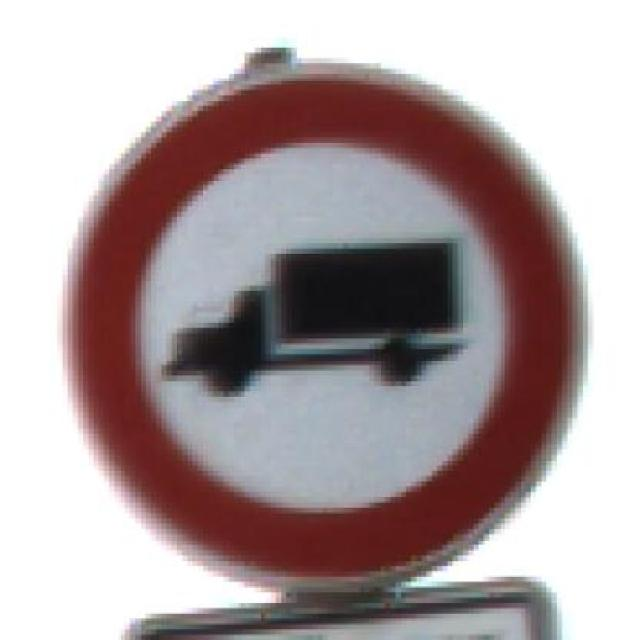Truck traffic is prohibited: (47, 42, 604, 593)
